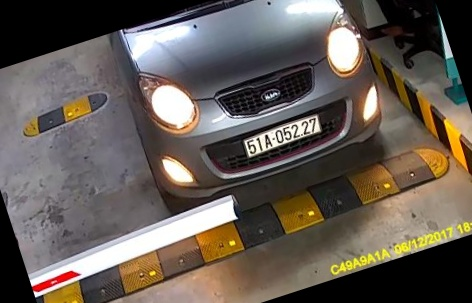plate: (236, 117, 334, 165)
